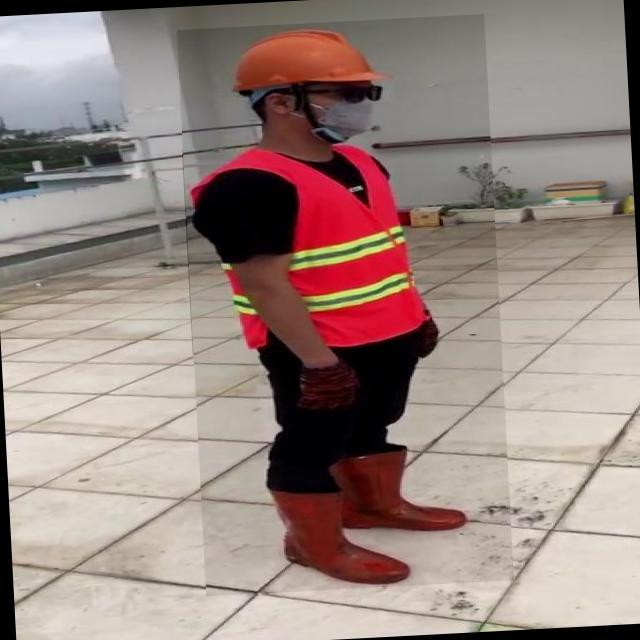Gloves: (294, 365, 364, 415)
Helmet: (226, 27, 387, 99)
Human: (178, 15, 515, 598)
Safety Boot: (265, 483, 409, 593), (329, 449, 468, 539)
Safety Vest: (182, 138, 421, 355)
